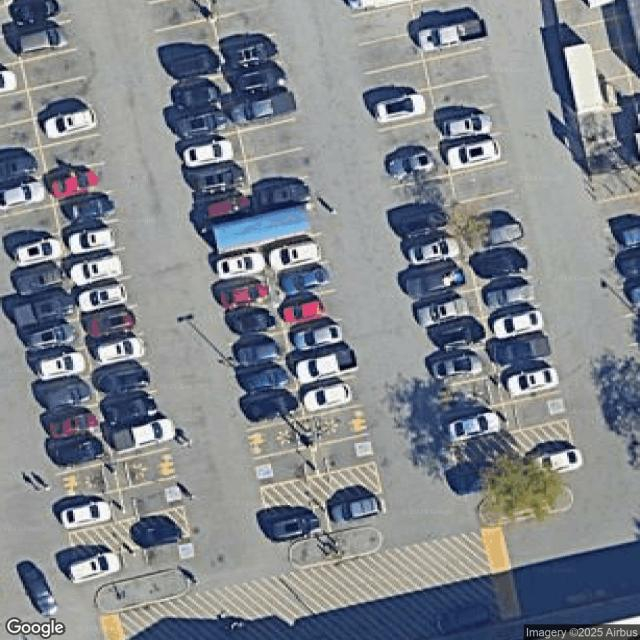car: (109, 417, 177, 458), (39, 103, 100, 143), (293, 346, 357, 384), (13, 290, 72, 331), (103, 392, 161, 430), (94, 362, 152, 400), (66, 251, 124, 289), (13, 260, 68, 300), (24, 318, 79, 358), (35, 346, 90, 386), (41, 376, 96, 416), (44, 406, 99, 446), (91, 332, 148, 370), (81, 304, 138, 342), (73, 278, 130, 316), (63, 221, 120, 259), (61, 192, 118, 230), (234, 91, 294, 127), (53, 435, 108, 474), (47, 165, 101, 204), (434, 600, 493, 635), (15, 23, 72, 58), (474, 250, 537, 281), (300, 380, 352, 415), (245, 391, 297, 426), (238, 365, 290, 400), (277, 294, 329, 329), (216, 248, 268, 283), (193, 163, 245, 198), (226, 307, 277, 342), (221, 276, 272, 311), (269, 511, 321, 545), (329, 493, 381, 527), (272, 239, 324, 273), (256, 178, 308, 212), (199, 191, 251, 225), (417, 22, 487, 47), (293, 320, 344, 354), (232, 338, 283, 372), (280, 265, 331, 299), (1, 176, 46, 213), (176, 109, 225, 141), (185, 138, 233, 170), (176, 79, 225, 110), (235, 66, 284, 97), (227, 38, 276, 69), (170, 47, 218, 78), (140, 518, 188, 548), (0, 150, 37, 188), (68, 554, 122, 580), (506, 368, 556, 396), (484, 282, 530, 312), (431, 352, 484, 378), (446, 414, 501, 439), (444, 142, 500, 166), (493, 311, 542, 338), (412, 299, 472, 321), (530, 448, 583, 472), (440, 113, 492, 137), (30, 575, 60, 616), (404, 270, 464, 290), (477, 224, 528, 247), (61, 504, 114, 526), (408, 238, 458, 261), (428, 321, 485, 341), (374, 97, 425, 119), (13, 239, 59, 262), (387, 153, 435, 175), (0, 68, 16, 94)
lot_boundary: (2, 0, 614, 639)
